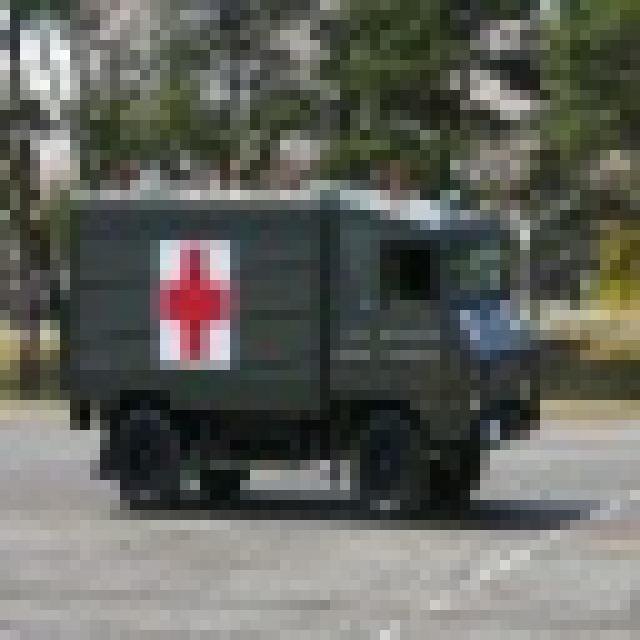Ambulance: (50, 180, 540, 510)
